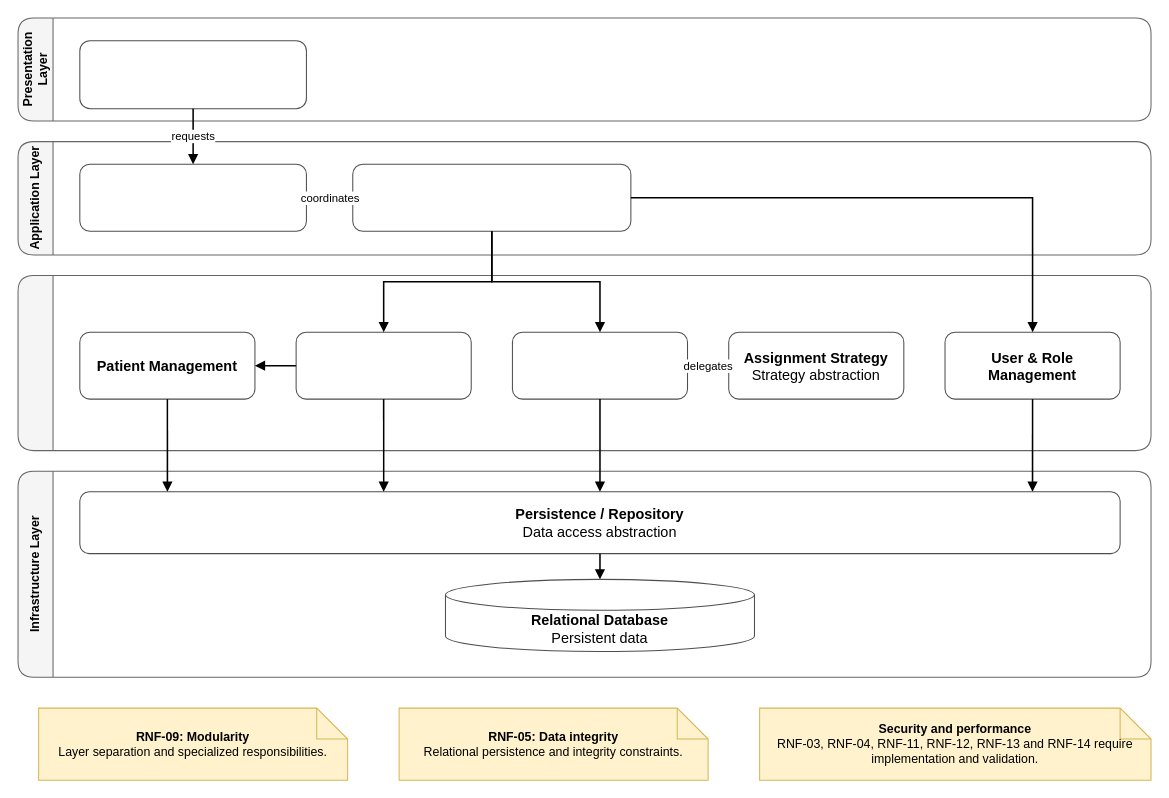
The diagram is 1169 pixels wide and 798 high, and some of its shapes have lost their labels. The shapes that lost their labels are listed below. From the top down, each one's box as (x1, y1, x2, y2) in pixels, then its label:
(79, 40, 306, 109): Web User Interface User interaction and presentation
(79, 163, 306, 231): Application Controllers Request handling and workflow entry
(352, 163, 631, 231): GestionServicioFacade Workflow orchestration
(295, 331, 471, 399): Service Management
(17, 274, 1151, 451): Domain Layer
(511, 331, 688, 399): Assignment Management
